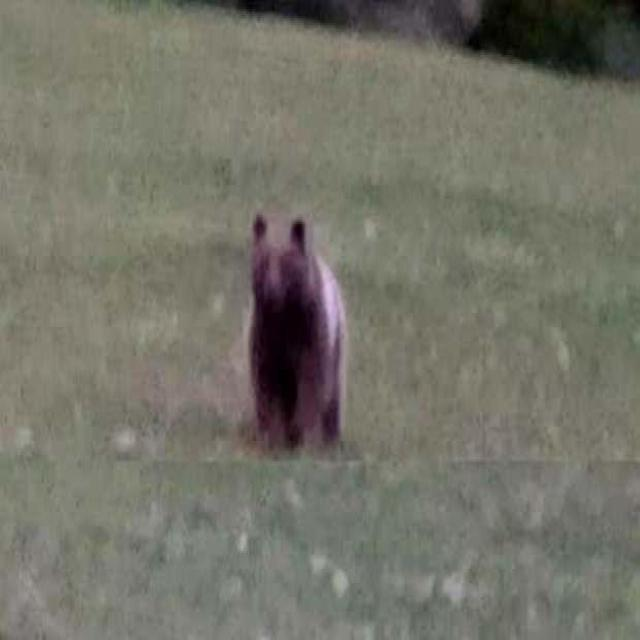Bear: (246, 214, 349, 452)
